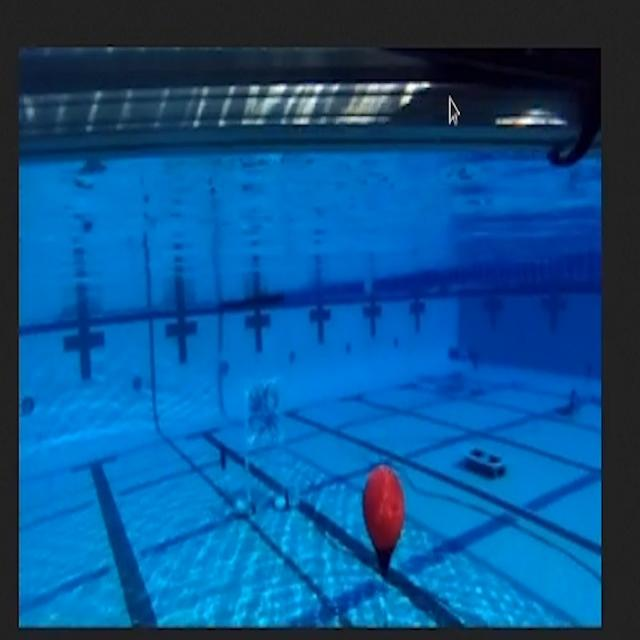Bin: (453, 425, 520, 494)
Buoy: (343, 448, 432, 601)
